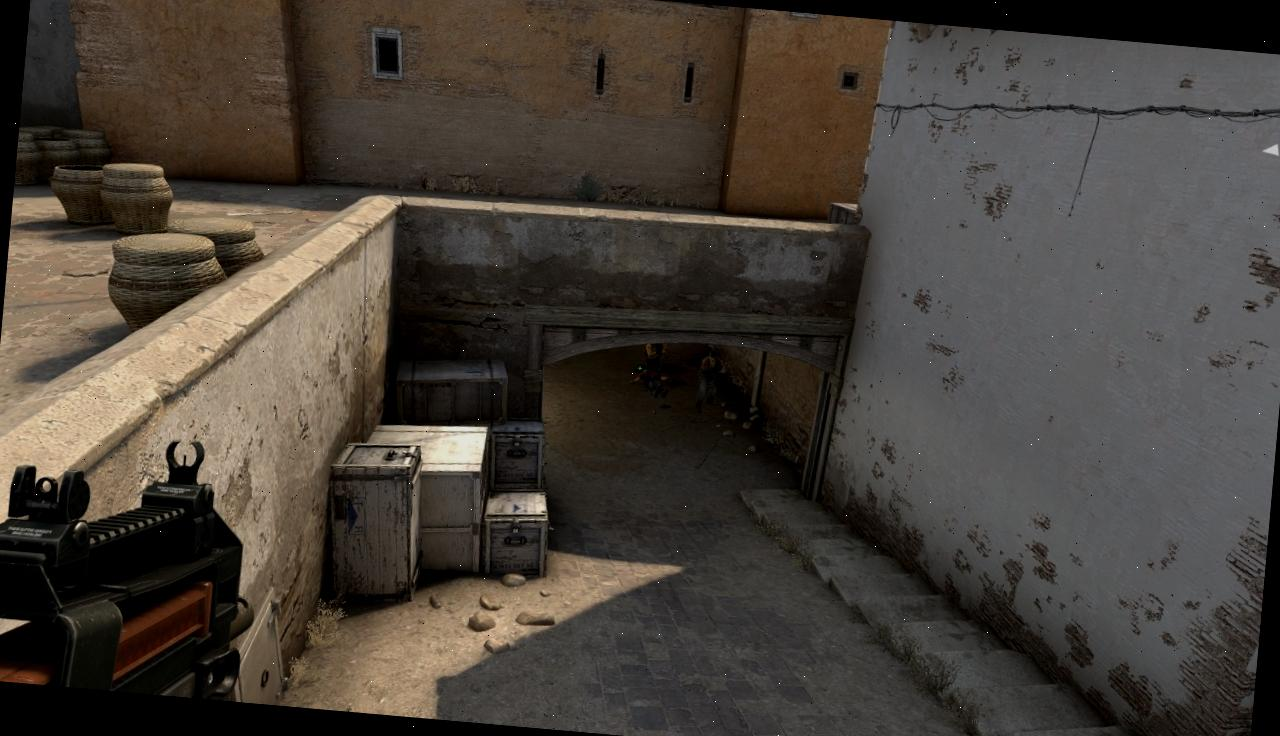rifle: (0, 423, 258, 702)
tt: (695, 351, 723, 415), (642, 342, 667, 393)
tthead: (709, 352, 716, 362)
